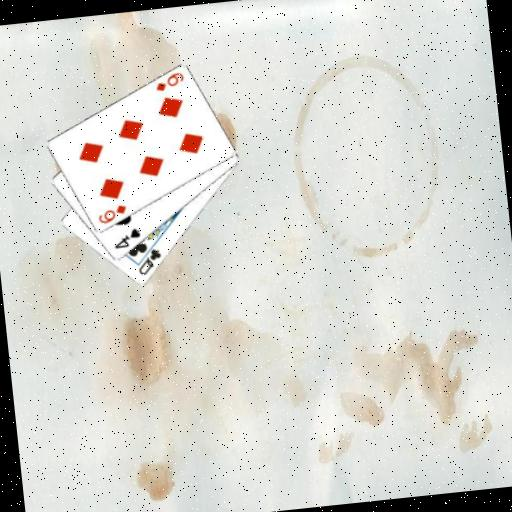4S: (109, 225, 143, 251)
6D: (151, 69, 187, 94), (94, 202, 129, 227)
QC: (133, 246, 164, 279)
